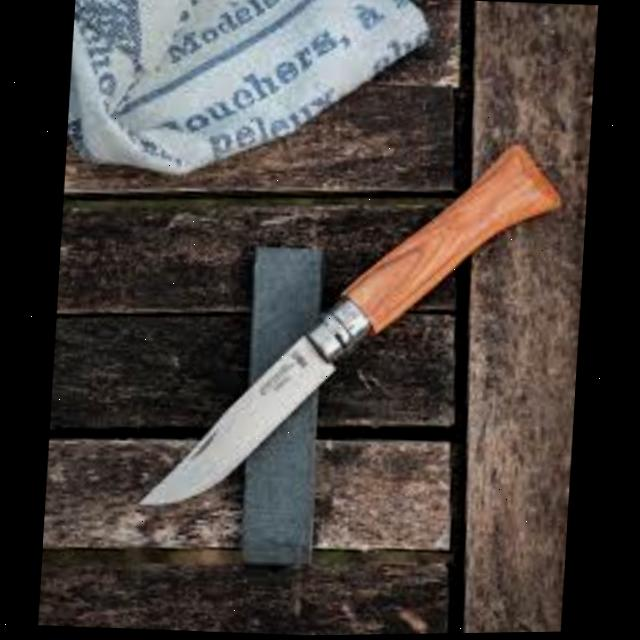Knife: (135, 122, 564, 528)
